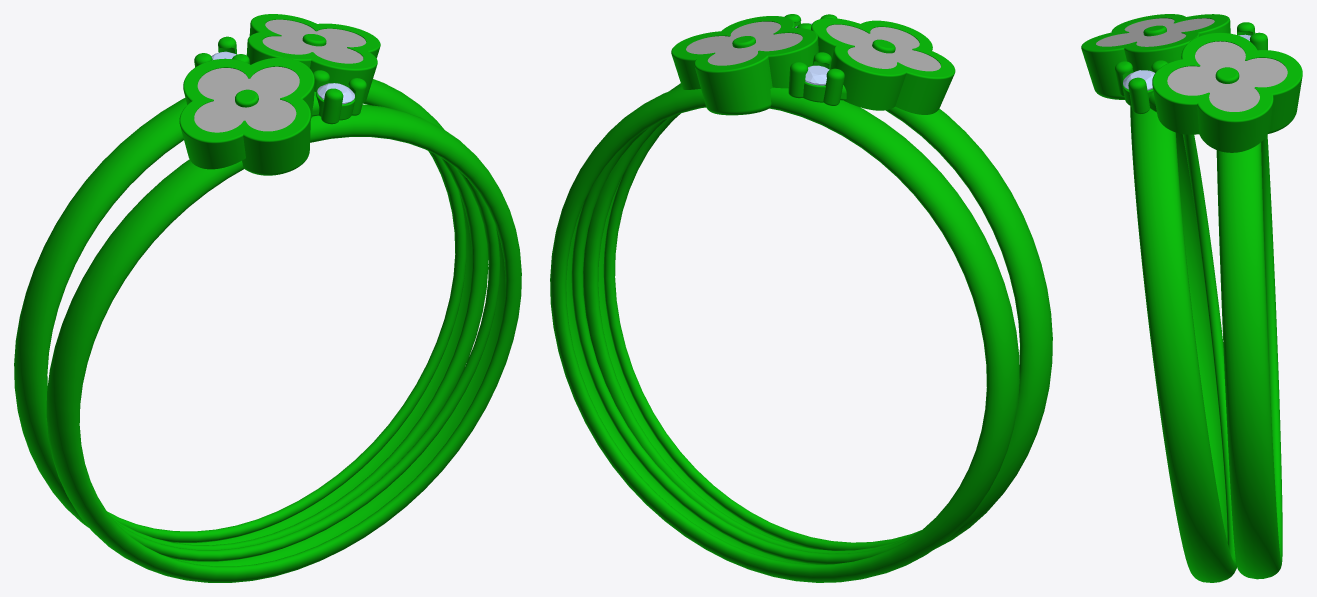
3 renders of one model, left to right at view 1: azimuth 30°, elevation 25°; view 2: azimuth 150°, elevation 25°; view 3: azimuth 270°, elevation 25°, orthographic.
Parts seen in each view (by area): view 1: 4.3dm; view 2: 4.3dm; view 3: 4.3dm.
Boxes of the visible parts, left/top/right/bottom form: 4.3dm: left=14, top=14, right=521, bottom=582; 4.3dm: left=550, top=14, right=1052, bottom=582; 4.3dm: left=1081, top=14, right=1302, bottom=582.
Bounding box in the file's own units: 2.61 × 2.83 × 1.09.
